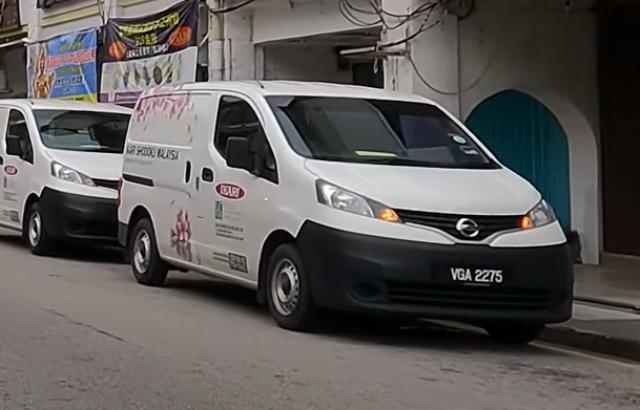License_Plate: (445, 265, 512, 290)
car: (117, 79, 576, 343), (2, 99, 135, 258)
